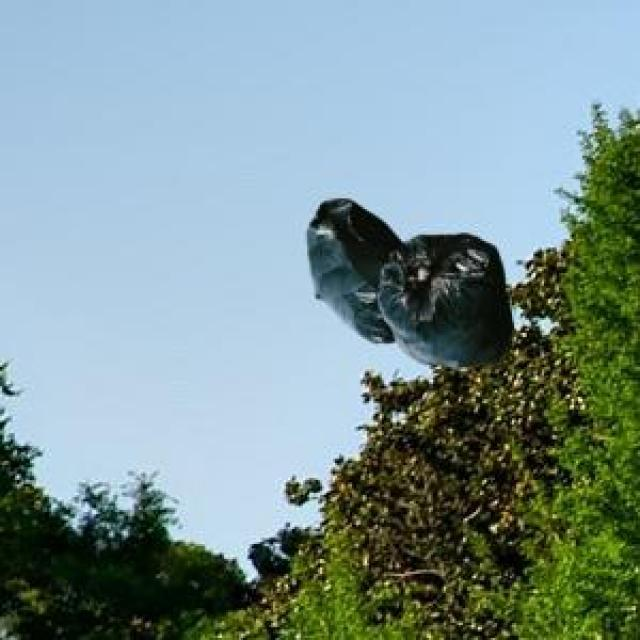Trashbag: (381, 231, 520, 365), (304, 197, 396, 337)
